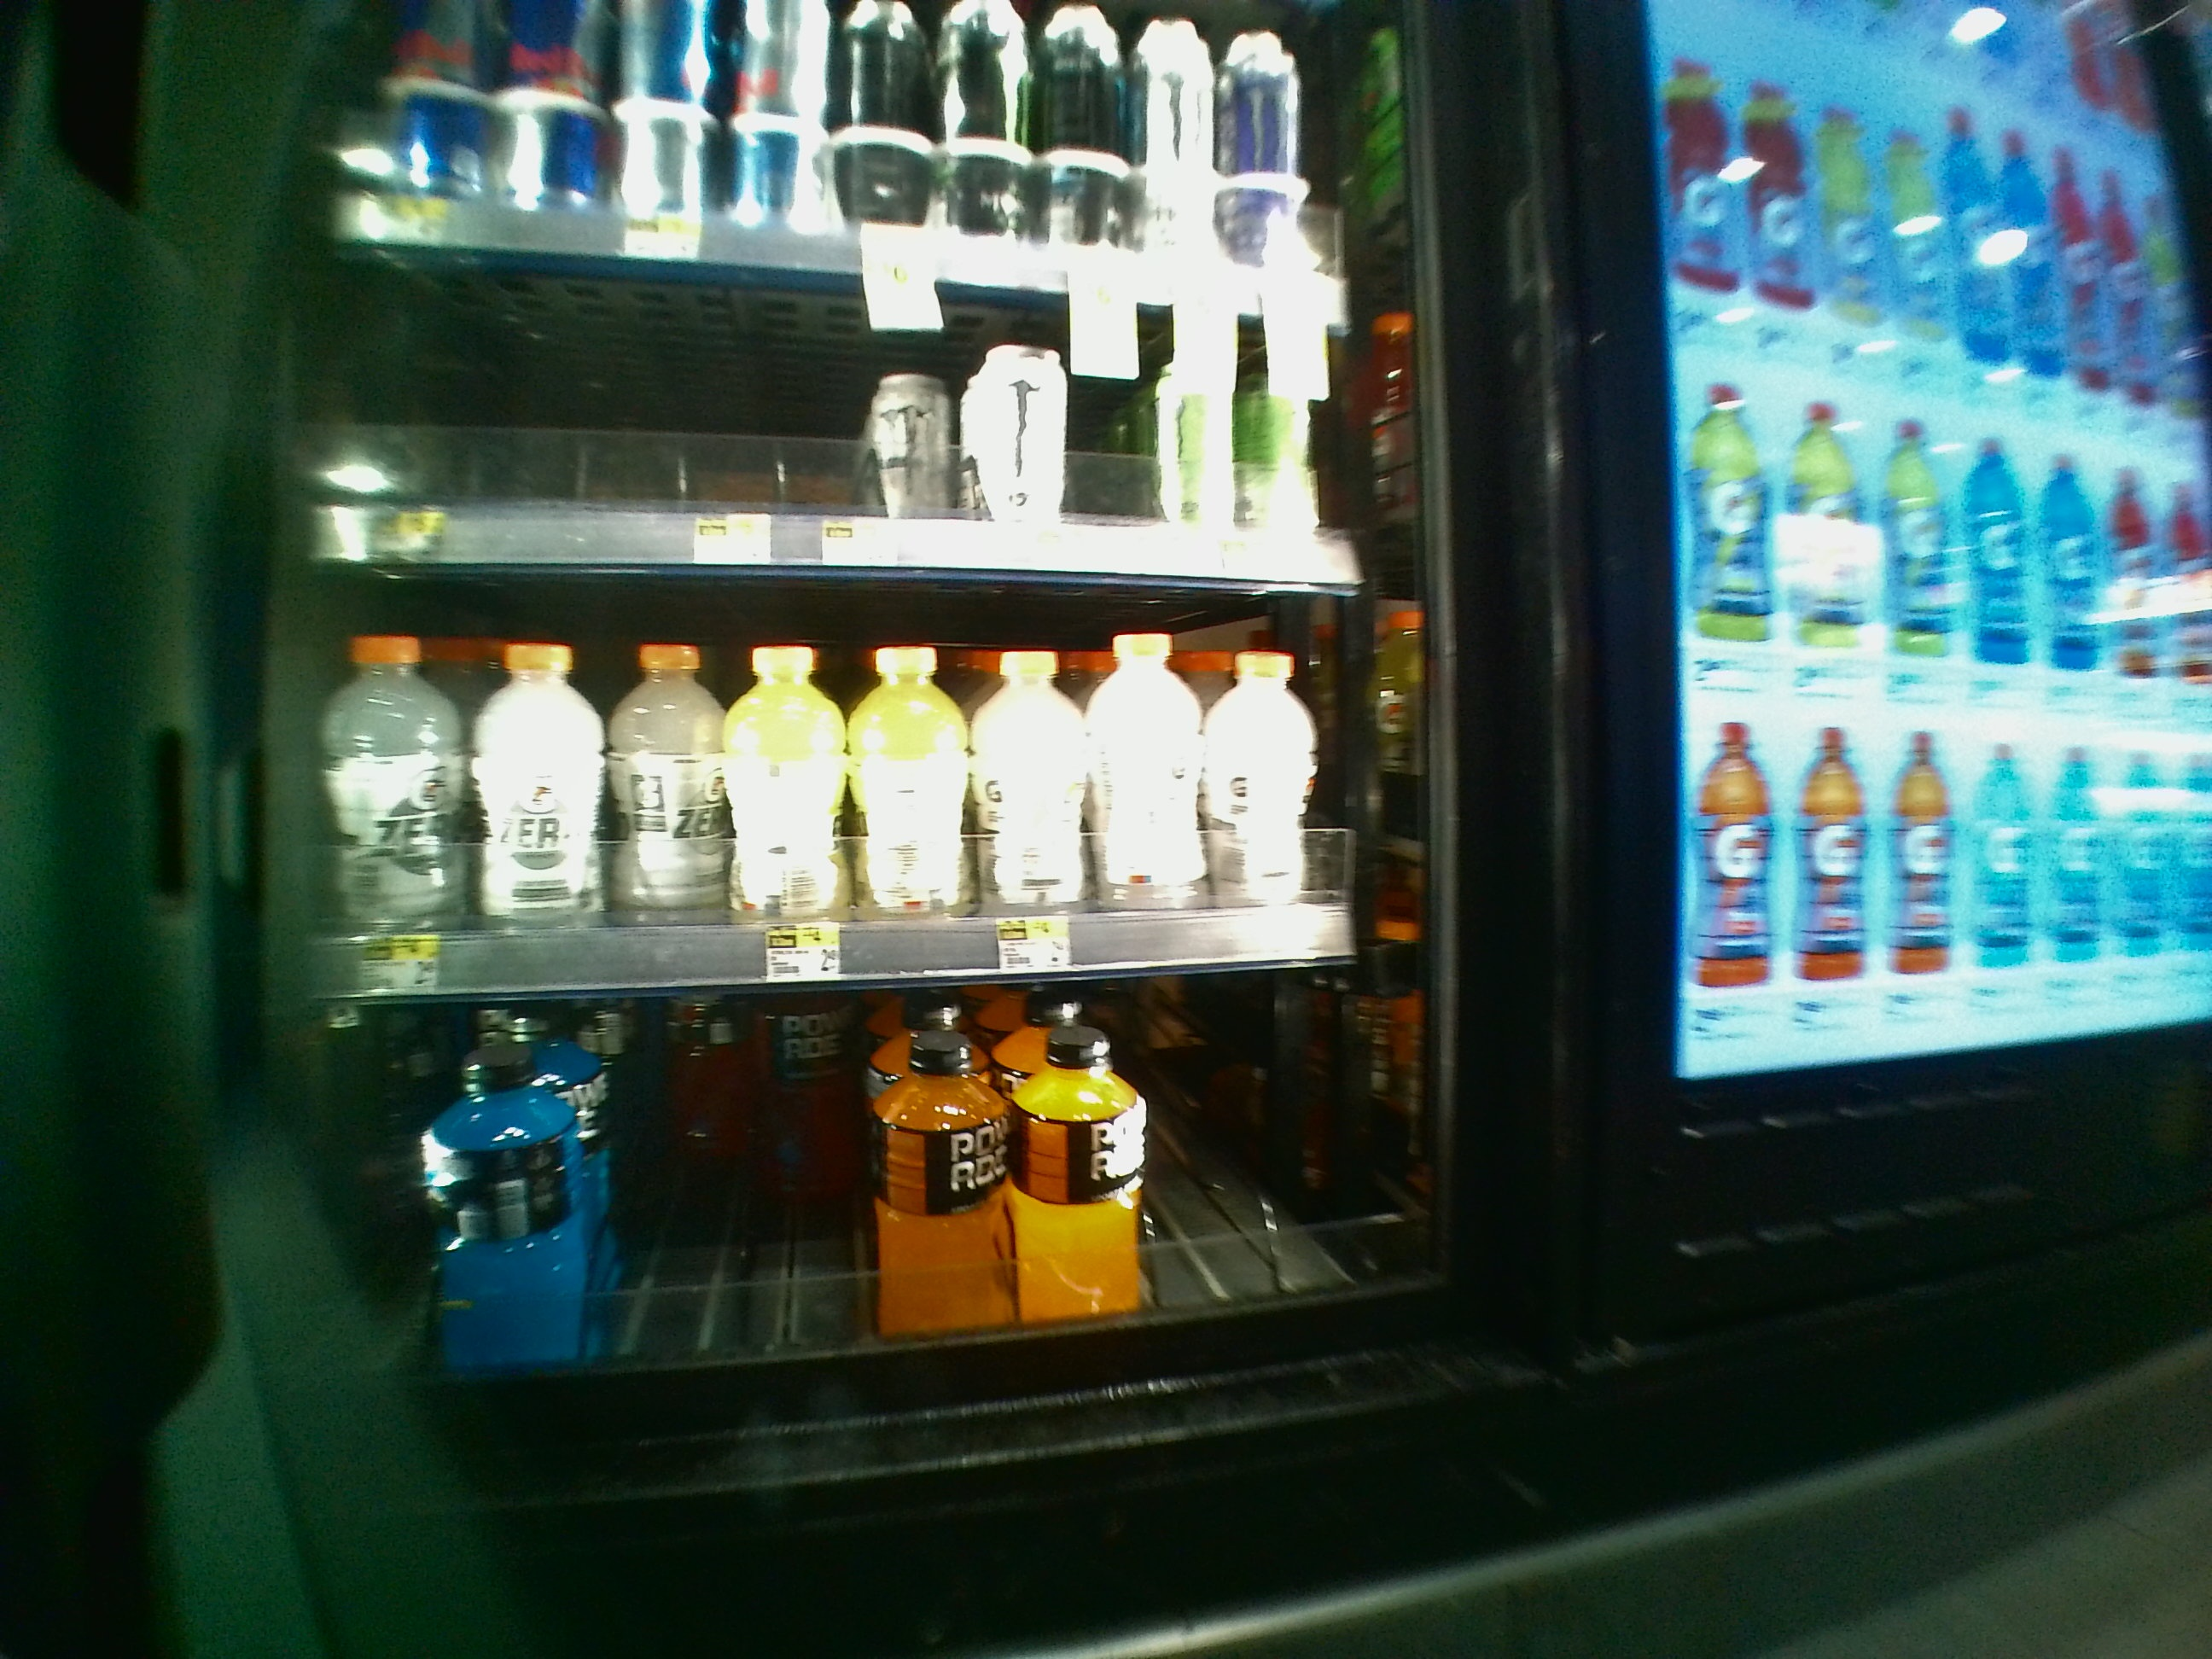shelf: (277, 566, 1430, 986)
